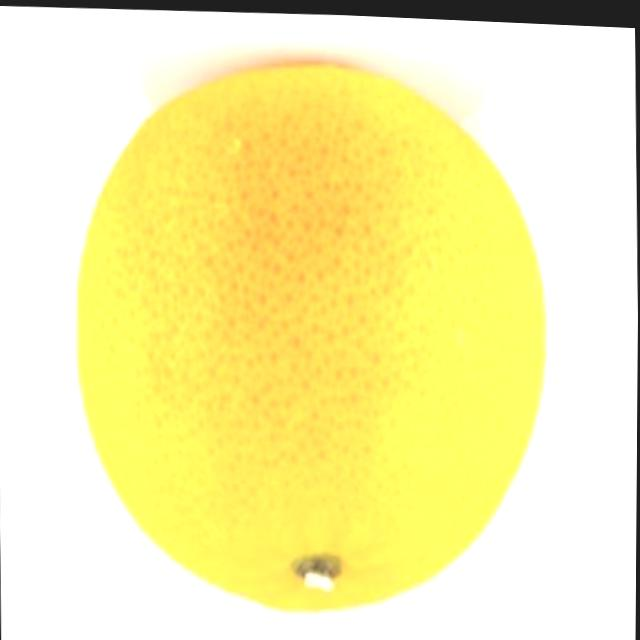Orange: (68, 47, 555, 625)
